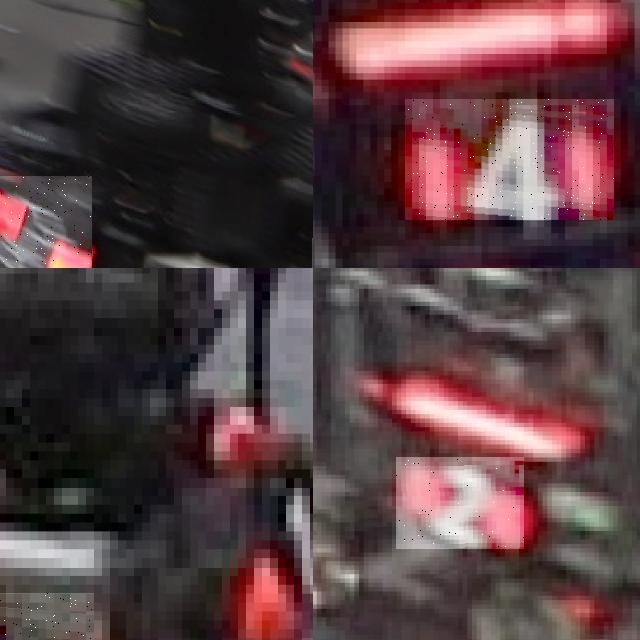R2: (396, 457, 524, 549)
R4: (405, 99, 614, 220)
Rs: (0, 176, 92, 268)
